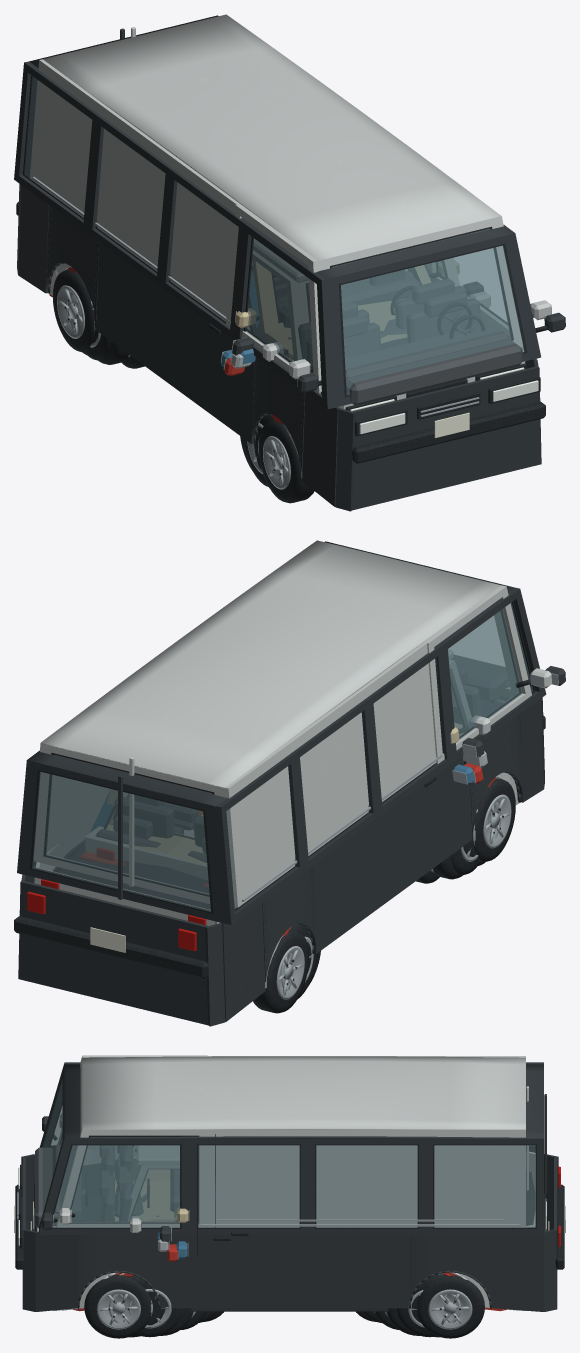
File: vehicle_00.glb
3 views of the same model, one above another, from view 1: azimuth 30°, elevation 25°; view 2: azimuth 150°, elevation 25°; view 3: azimuth 270°, elevation 25° (orthographic). The views are drawn at different scales.
Parts seen in each view (by area): view 1: vehicle_019_Body_Paint_LOD0, vehicle_014_Body_Paint_LOD0, vehicle_014_Body_Glass_LOD0, vehicle_019_Body_Glass_LOD0, vehicle_014_Body_Interior_LOD0, vehicle_014_Body_Rubber_LOD0, vehicle_019_Body_Interior_LOD0, vehicle_002_Body_Paint_LOD0, vehicle_004_Body_Paint_LOD0, vehicle_014_Wheel_00_Rubber_LOD0, vehicle_019_Body_Rubber_LOD0, vehicle_014_Body_Lens_LOD0 (+7 smaller); view 2: vehicle_019_Body_Paint_LOD0, vehicle_014_Body_Paint_LOD0, vehicle_014_Body_Glass_LOD0, vehicle_019_Body_Glass_LOD0, vehicle_014_Body_Rubber_LOD0, vehicle_009_Body_Paint_LOD0, vehicle_004_Body_Paint_LOD0, vehicle_014_Wheel_02_Rubber_LOD0, vehicle_014_Wheel_00_Rubber_LOD0, vehicle_002_Body_Interior_LOD0, vehicle_014_Body_Lens_LOD0, vehicle_019_Body_Rubber_LOD0 (+7 smaller); view 3: vehicle_019_Body_Paint_LOD0, vehicle_014_Body_Paint_LOD0, vehicle_014_Body_Glass_LOD0, vehicle_019_Body_Glass_LOD0, vehicle_014_Body_Rubber_LOD0, vehicle_014_Body_Interior_LOD0, vehicle_014_Wheel_03_Rubber_LOD0, vehicle_014_Wheel_01_Rubber_LOD0, vehicle_019_Body_Interior_LOD0, vehicle_002_Body_Paint_LOD0, vehicle_009_Body_Paint_LOD0, vehicle_004_Body_Paint_LOD0 (+10 smaller).
Part boxes in pixels (<box>): vehicle_019_Body_Paint_LOD0: <box>29,14,551,478</box>; vehicle_014_Body_Paint_LOD0: <box>14,15,565,511</box>; vehicle_014_Body_Glass_LOD0: <box>25,77,524,395</box>; vehicle_019_Body_Glass_LOD0: <box>247,228,510,372</box>; vehicle_014_Body_Interior_LOD0: <box>306,291,522,405</box>; vehicle_014_Body_Rubber_LOD0: <box>16,75,547,463</box>; vehicle_019_Body_Interior_LOD0: <box>298,279,509,377</box>; vehicle_002_Body_Paint_LOD0: <box>235,259,459,359</box>; vehicle_004_Body_Paint_LOD0: <box>252,239,490,361</box>; vehicle_014_Wheel_00_Rubber_LOD0: <box>259,420,314,503</box>; vehicle_019_Body_Rubber_LOD0: <box>246,226,533,410</box>; vehicle_014_Body_Lens_LOD0: <box>359,380,538,438</box>; vehicle_019_Body_Paint_LOD0: <box>33,540,551,988</box>; vehicle_014_Body_Paint_LOD0: <box>17,541,565,1026</box>; vehicle_014_Body_Glass_LOD0: <box>32,602,532,911</box>; vehicle_019_Body_Glass_LOD0: <box>46,611,518,894</box>; vehicle_014_Body_Rubber_LOD0: <box>14,601,545,978</box>; vehicle_009_Body_Paint_LOD0: <box>53,701,502,909</box>; vehicle_004_Body_Paint_LOD0: <box>85,649,490,879</box>; vehicle_014_Wheel_02_Rubber_LOD0: <box>253,929,308,1013</box>; vehicle_014_Wheel_00_Rubber_LOD0: <box>473,778,515,861</box>; vehicle_002_Body_Interior_LOD0: <box>115,795,204,846</box>; vehicle_014_Body_Lens_LOD0: <box>27,891,196,952</box>; vehicle_019_Body_Rubber_LOD0: <box>43,610,530,896</box>; vehicle_019_Body_Paint_LOD0: <box>52,1055,535,1310</box>; vehicle_014_Body_Paint_LOD0: <box>21,1062,558,1311</box>; vehicle_014_Body_Glass_LOD0: <box>42,1078,535,1227</box>; vehicle_019_Body_Glass_LOD0: <box>60,1136,179,1222</box>; vehicle_014_Body_Rubber_LOD0: <box>15,1075,564,1269</box>; vehicle_014_Body_Interior_LOD0: <box>35,1145,114,1227</box>; vehicle_014_Wheel_03_Rubber_LOD0: <box>416,1275,484,1338</box>; vehicle_014_Wheel_01_Rubber_LOD0: <box>84,1275,151,1338</box>; vehicle_019_Body_Interior_LOD0: <box>52,1144,132,1221</box>; vehicle_002_Body_Paint_LOD0: <box>113,1157,188,1222</box>; vehicle_009_Body_Paint_LOD0: <box>80,1163,535,1242</box>; vehicle_004_Body_Paint_LOD0: <box>128,1145,179,1232</box>.
Size of what is drawn, in the model's own units: 2.28 by 2.15 by 5.11.
Materials: 22 (13 with a texture image).
